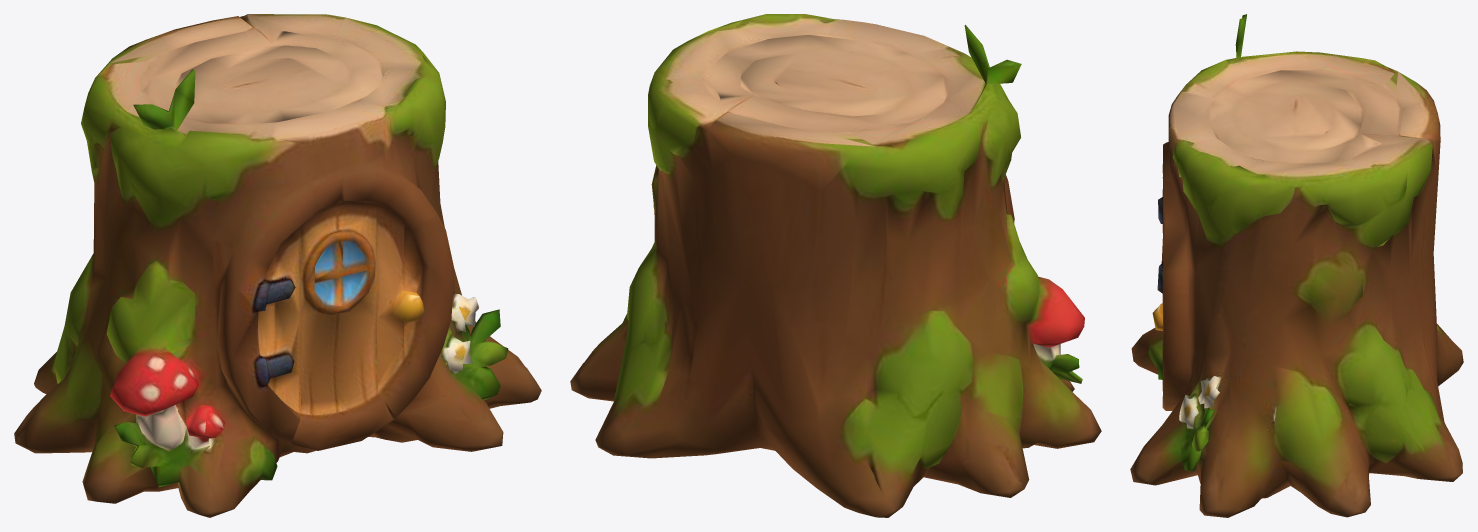
File: fairydoor.glb
3 views of the same model, side by side, from view 1: azimuth 30°, elevation 25°; view 2: azimuth 150°, elevation 25°; view 3: azimuth 270°, elevation 25° (orthographic). The views are drawn at different scales.
Visible parts, largest first — view 1: model; view 2: model; view 3: model.
Boxes of the visible parts, box(x1,y1,x2,y2) form: model: box(14, 14, 541, 517); model: box(570, 14, 1101, 517); model: box(1130, 14, 1463, 517).
Size of the model in its own units: 1.9 by 1.6 by 1.36.
1 material, 1 textured.
